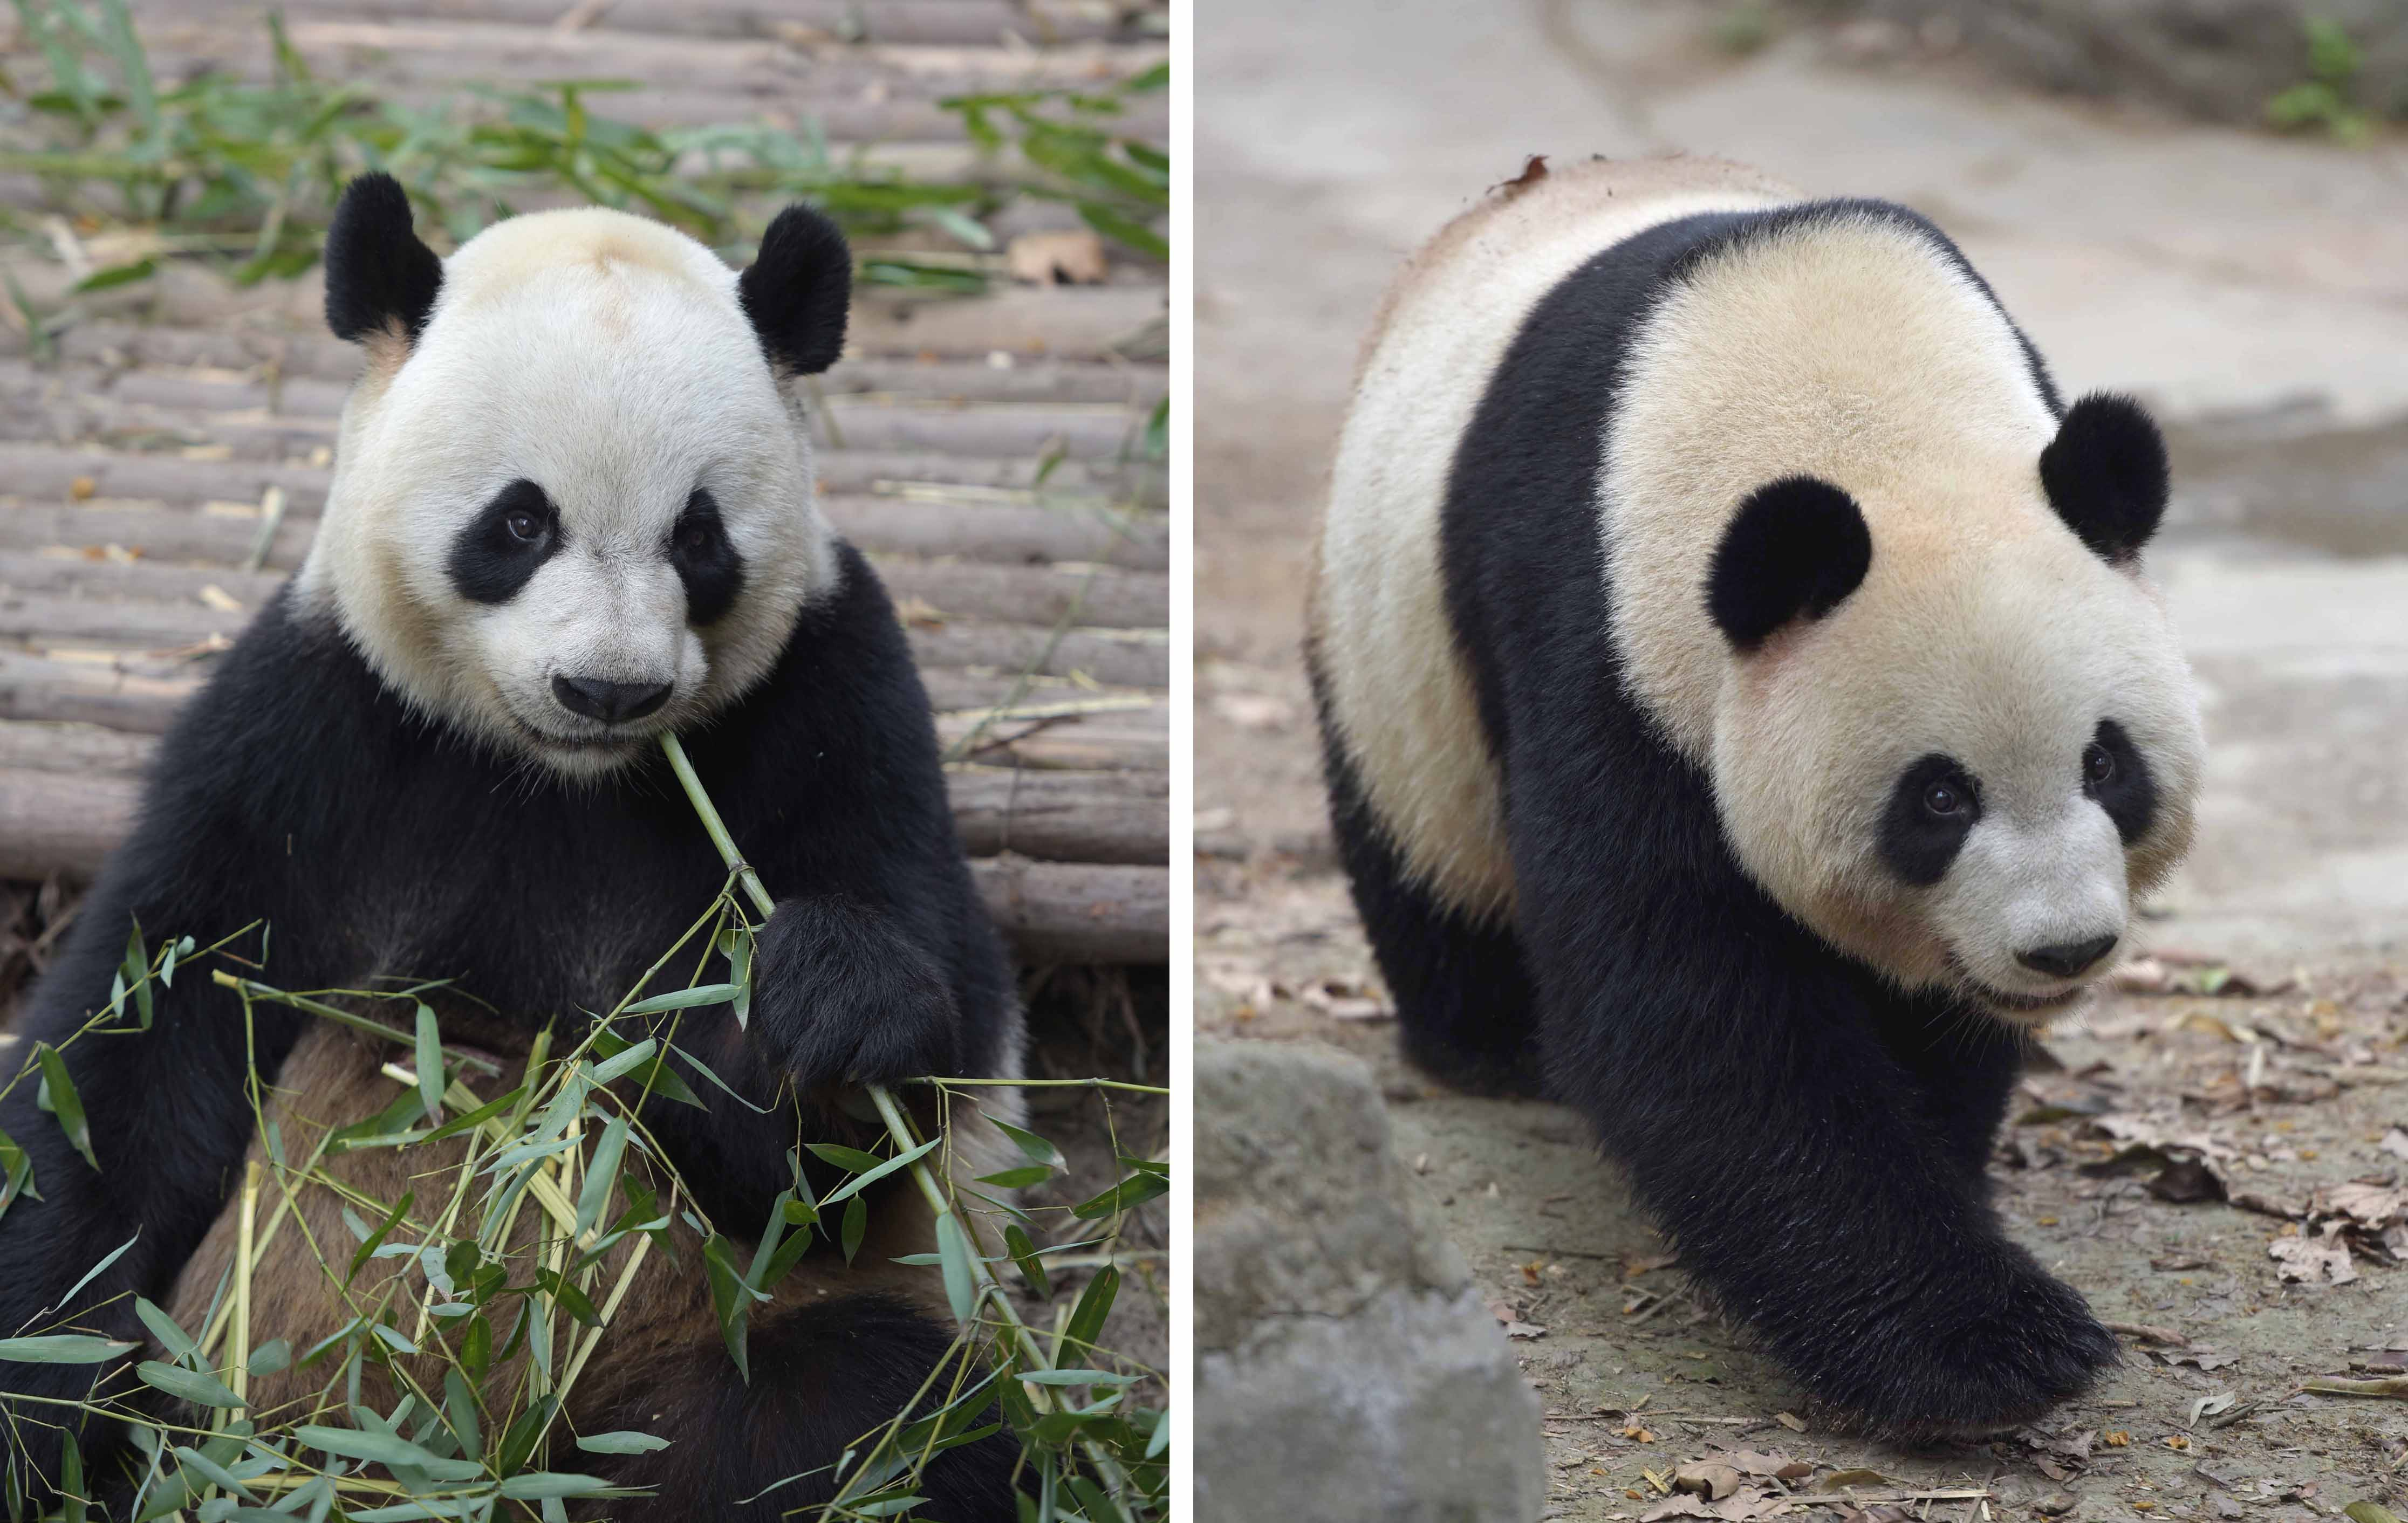panda: (1267, 121, 2362, 1435), (112, 98, 1078, 1495)
